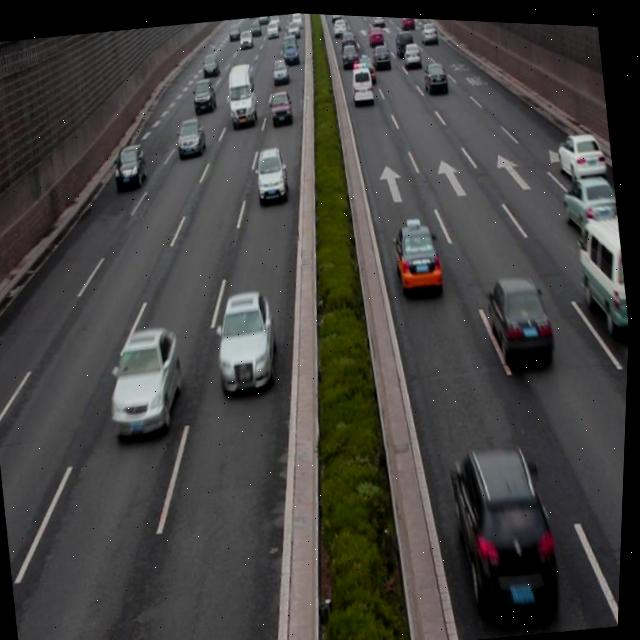car: (446, 433, 568, 617), (107, 323, 196, 447), (212, 286, 285, 398), (483, 267, 560, 361), (557, 164, 624, 241), (390, 213, 446, 290), (553, 120, 608, 183), (254, 144, 292, 203), (112, 139, 148, 186), (174, 114, 208, 158)
truck: (570, 205, 635, 335)
